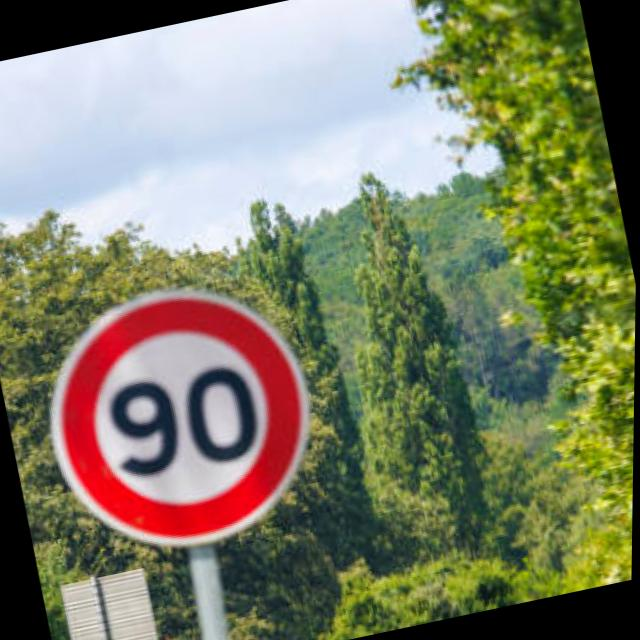Speed Limit -90-: (28, 267, 334, 572)
